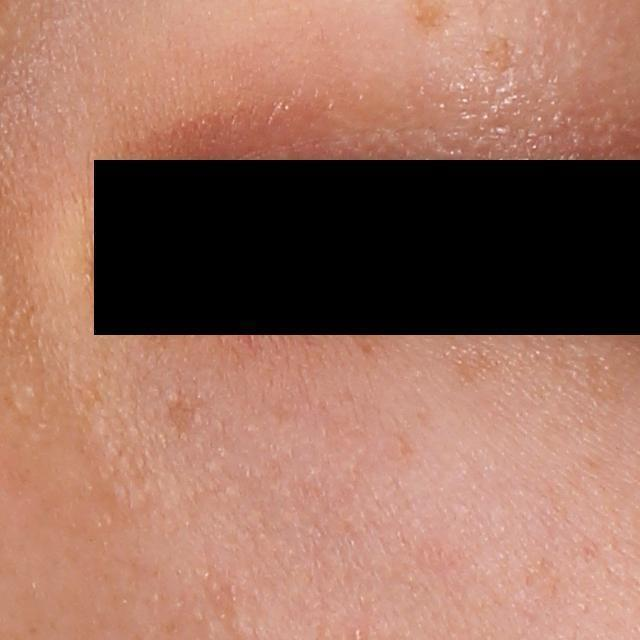melasma: (441, 340, 514, 395), (160, 381, 210, 443), (479, 29, 518, 76)
